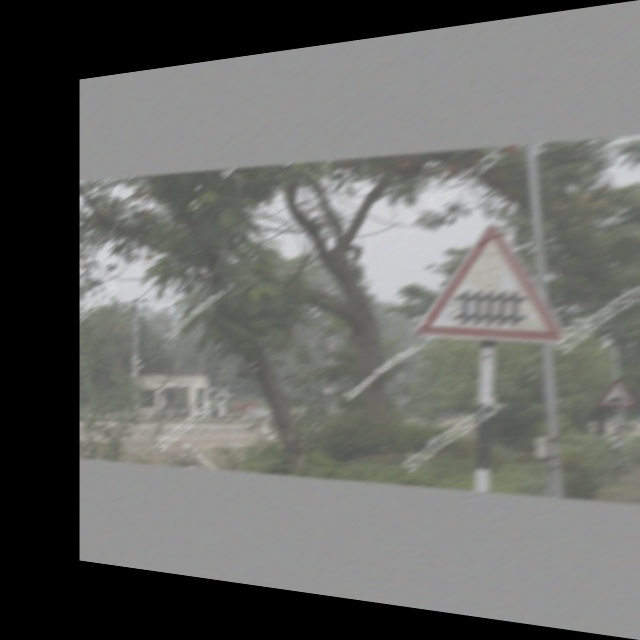Guarded_Level_Crossing: (421, 216, 562, 343)
